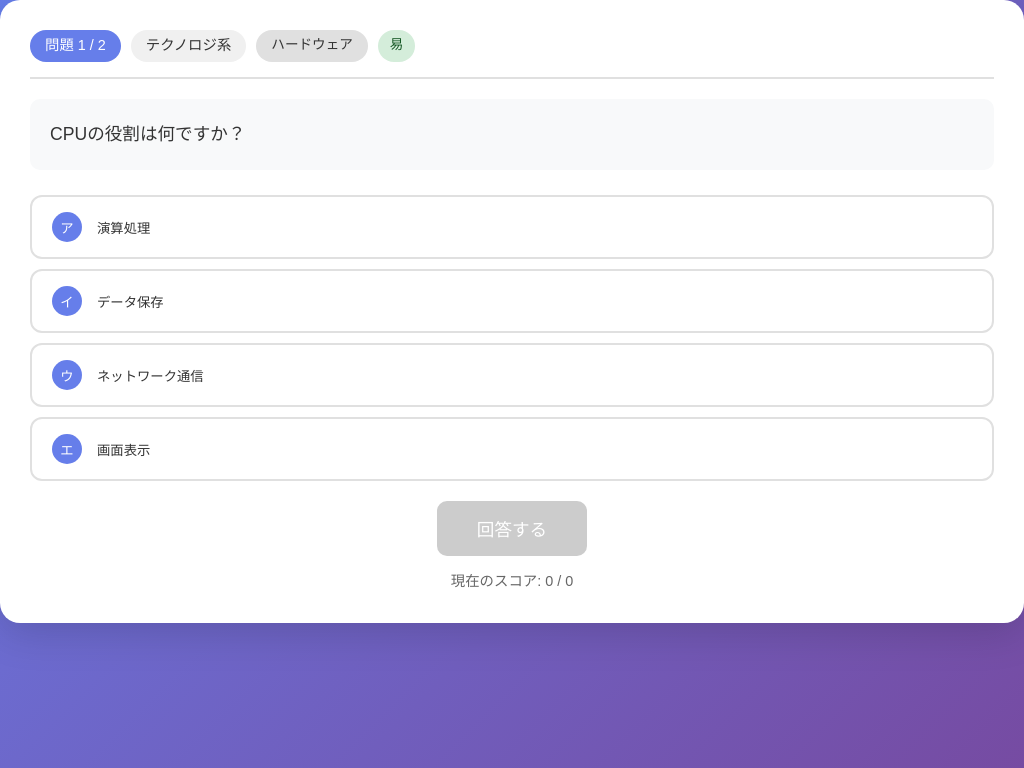
Test: Quiz › answer submission › should show correct feedback for correct answer
Expected: the text "演算処理" is shown, [97,221,150,236]
Click the button "ア 演算処理" at point(124, 228), box [30,195,994,259]
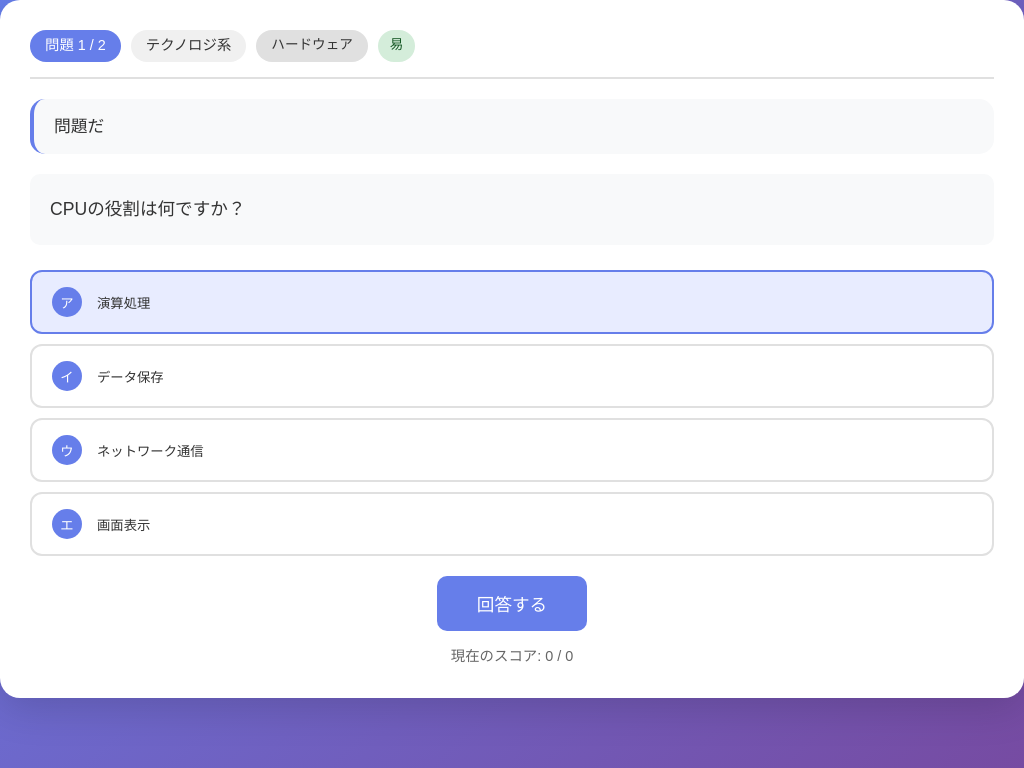
Click the button "回答する" at point(512, 604), box [437,576,587,632]
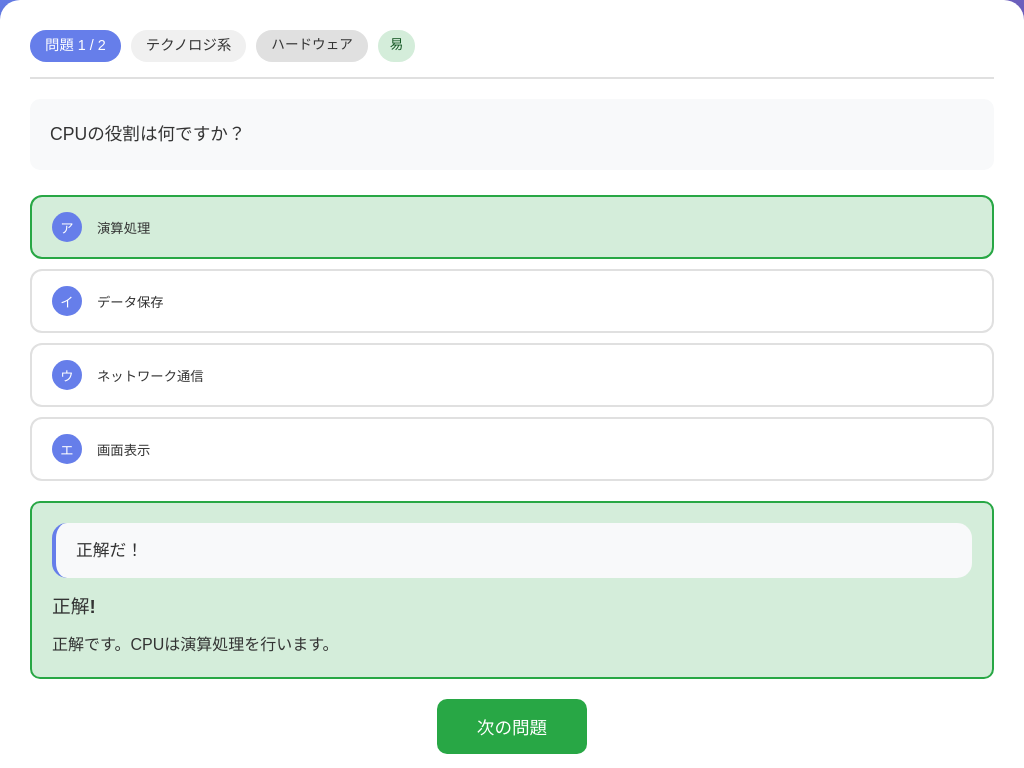
Result: the heading "正解!" is shown at [52,596,96,618]
